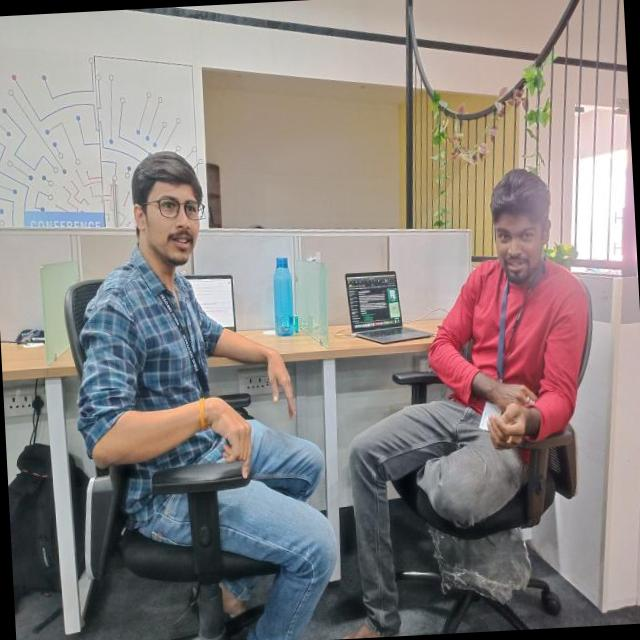id_card: (469, 274, 545, 435), (162, 278, 218, 421)
